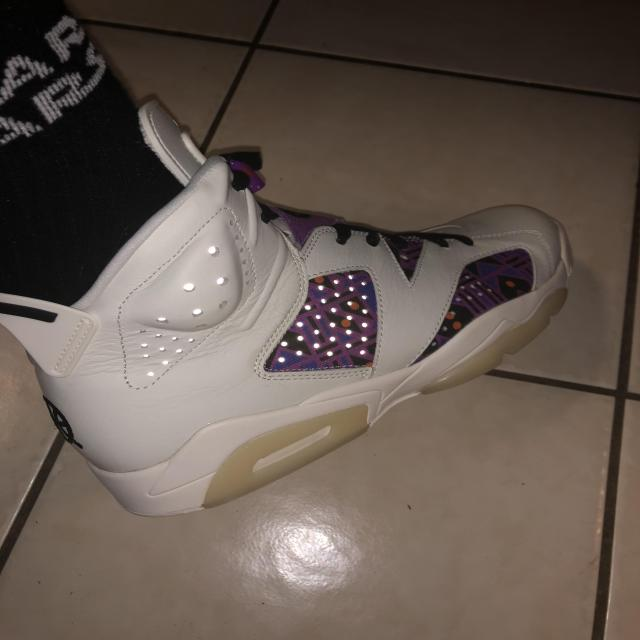shoes: (0, 102, 576, 527)
